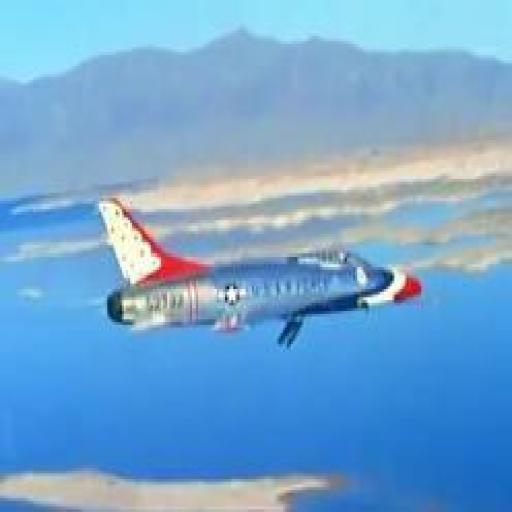aircraft: (98, 196, 426, 330)
